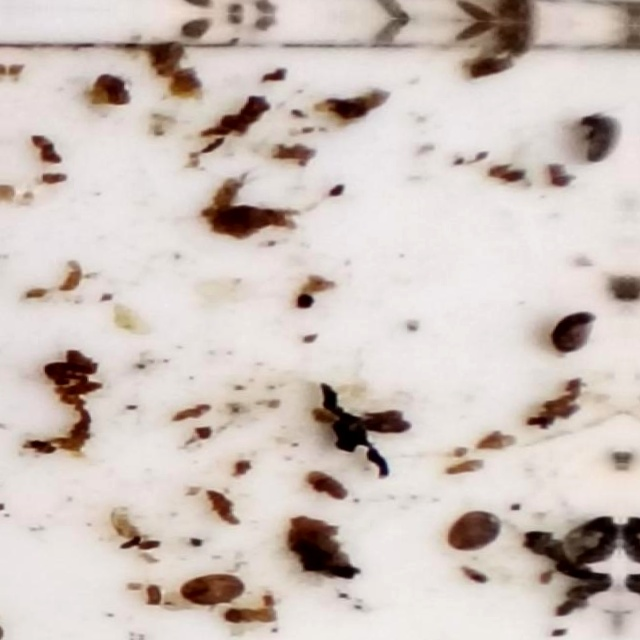varroa: (445, 507, 506, 557), (553, 309, 604, 359)
